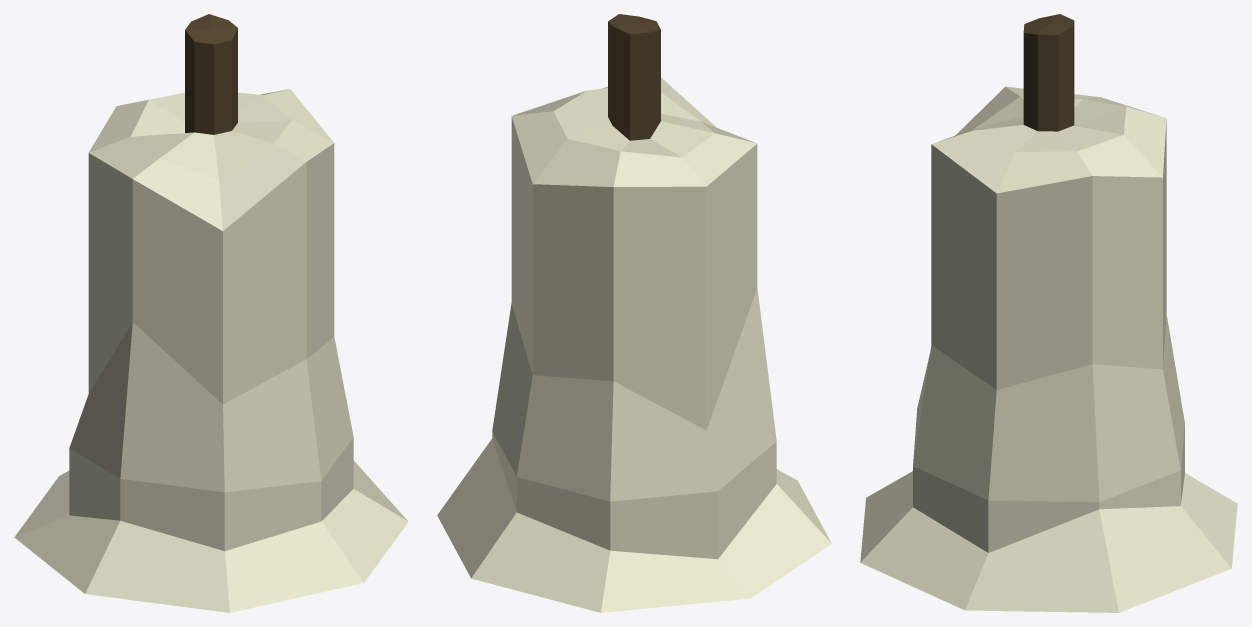
The model's file is Candle_C.fbx.
The picture shows the model from 3 angles, left to right: view 1: azimuth 30°, elevation 25°; view 2: azimuth 150°, elevation 25°; view 3: azimuth 270°, elevation 25°; orthographic projection.
Visible parts, largest first — view 1: Cylinder.005; view 2: Cylinder.005; view 3: Cylinder.005.
Part boxes in pixels (<box>): Cylinder.005: <box>14,14,408,612</box>; Cylinder.005: <box>437,14,831,612</box>; Cylinder.005: <box>860,14,1237,612</box>.
Bounding box in the file's own units: 179 × 269 × 179.
